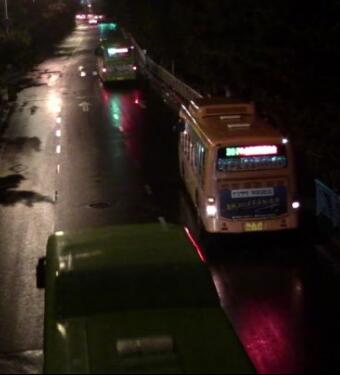bus: (28, 222, 247, 372), (176, 93, 300, 236), (98, 34, 136, 82)
